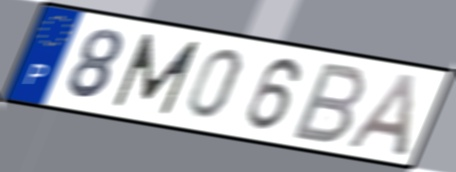0: (183, 46, 247, 124)
6: (244, 55, 305, 134)
8: (66, 27, 126, 101)
A: (340, 70, 424, 160)
B: (286, 59, 372, 147)
M: (109, 30, 204, 118)
